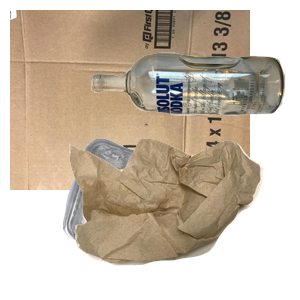cardboard: (10, 10, 250, 190)
glass: (88, 50, 300, 158)
plastic: (60, 136, 237, 300)
trash: (67, 136, 300, 300)
